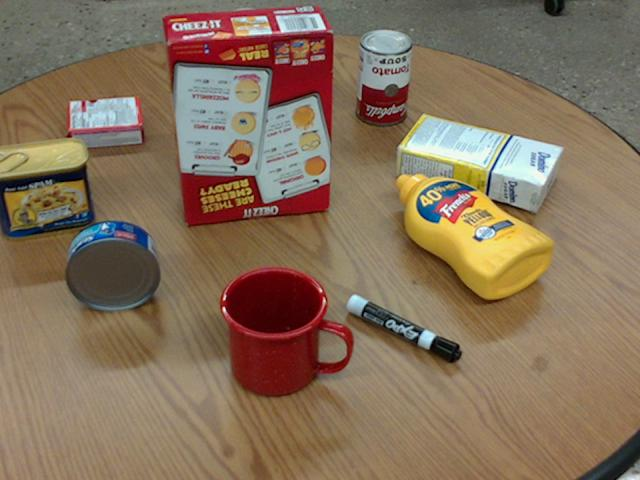cracker_box: (161, 8, 334, 223)
gelatin_box: (66, 96, 144, 149)
large_marker: (345, 294, 461, 362)
master_chef_can: (204, 8, 308, 129)
mug: (219, 266, 352, 397)
mustard_bottle: (394, 173, 552, 298)
potted_meat_can: (0, 138, 94, 241)
sugar_box: (394, 116, 562, 208)
tomato_soup_can: (353, 28, 410, 123)
tuna_fish_can: (64, 220, 159, 311)
